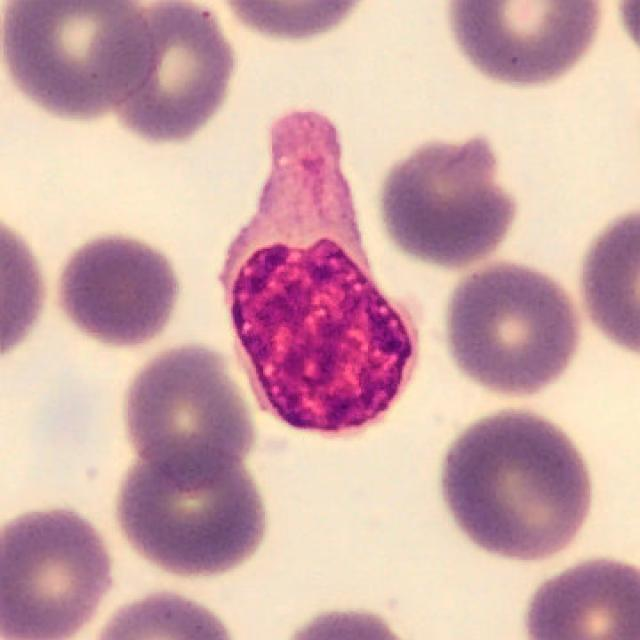Linfocito: (219, 112, 418, 436)
